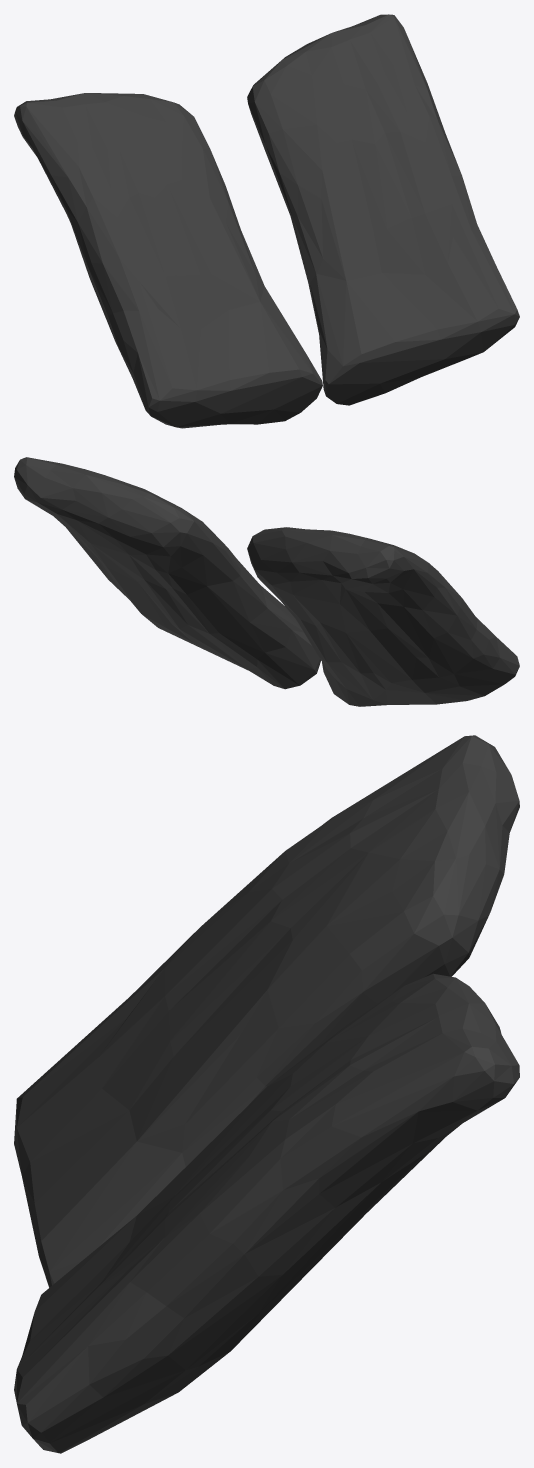
Rendered from m_rectus_capitis_dorsalis_minor.glb.
3 renders of one model, top to bottom at view 1: azimuth 30°, elevation 25°; view 2: azimuth 150°, elevation 25°; view 3: azimuth 270°, elevation 25°, orthographic. The views are drawn at different scales.
Visible parts, largest first — view 1: m_rectus_capitis_dorsalis_minor; view 2: m_rectus_capitis_dorsalis_minor; view 3: m_rectus_capitis_dorsalis_minor.
Boxes of the visible parts, x1,y1,x2,y2 form: m_rectus_capitis_dorsalis_minor: [14, 14, 519, 428]; m_rectus_capitis_dorsalis_minor: [14, 457, 519, 706]; m_rectus_capitis_dorsalis_minor: [14, 735, 519, 1453].
Bounding box in the file's own units: 0.000514 × 0.000354 × 0.000335.
Materials: 1 (1 with a texture image).
